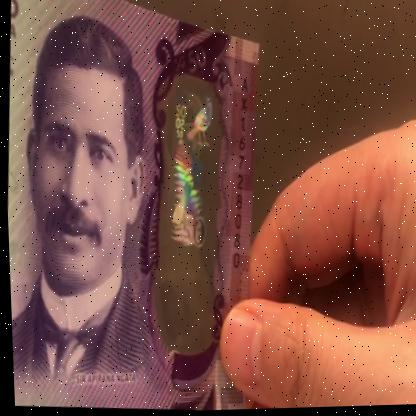50F: (154, 78, 221, 338)
